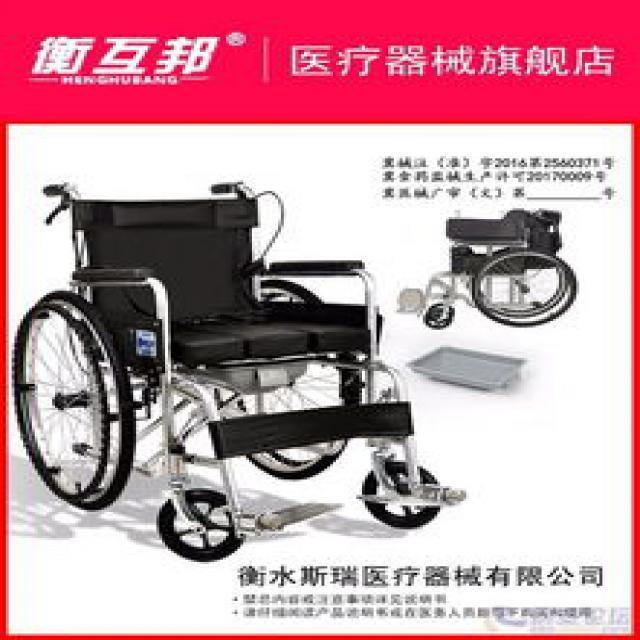wheelchairs: (16, 183, 459, 561), (388, 205, 586, 330)
